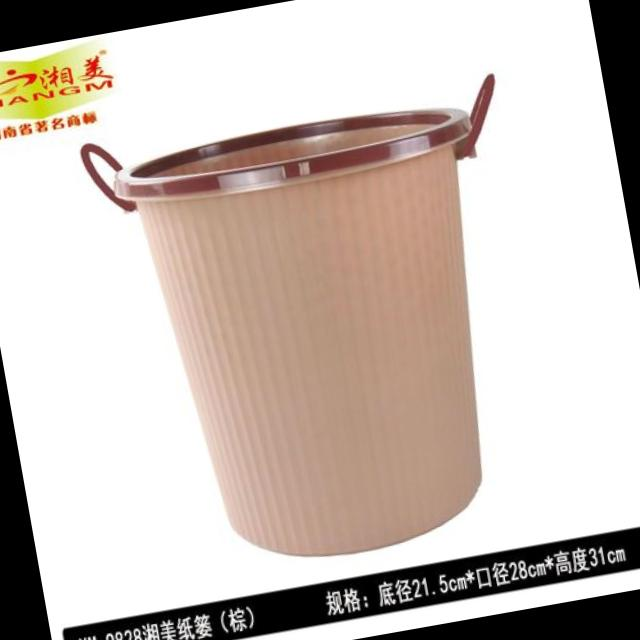dustbin: (73, 61, 587, 594)
